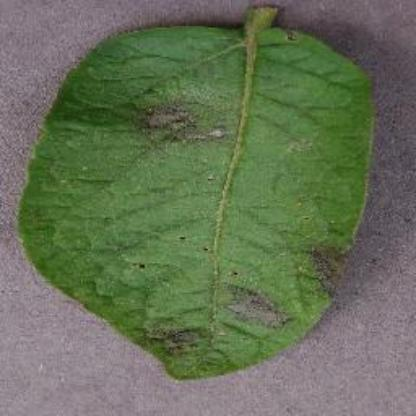Late-Blight: (40, 13, 392, 392)
